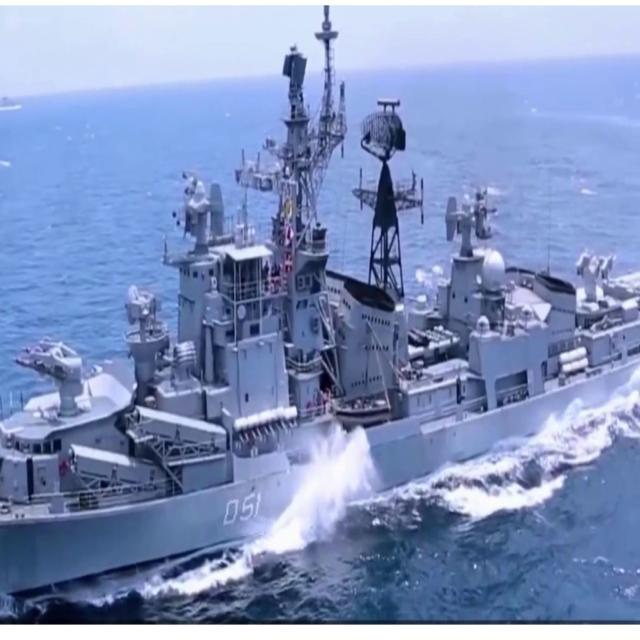OCR: (217, 484, 268, 536)
